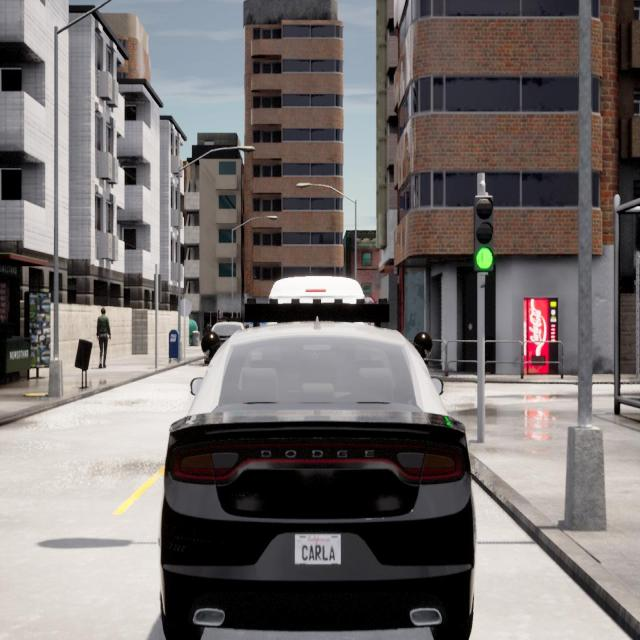Pedestrian: (96, 308, 110, 368)
Traffic_Signs: (179, 299, 190, 315)
Vehicle: (161, 321, 475, 640), (268, 276, 365, 302), (212, 323, 244, 345)
traffic_light: (473, 194, 494, 271), (158, 274, 160, 302)
